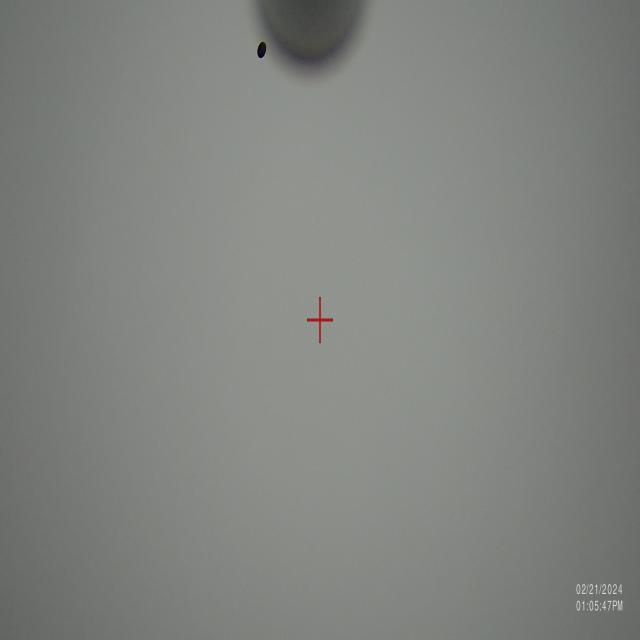entire: (251, 32, 273, 65)
